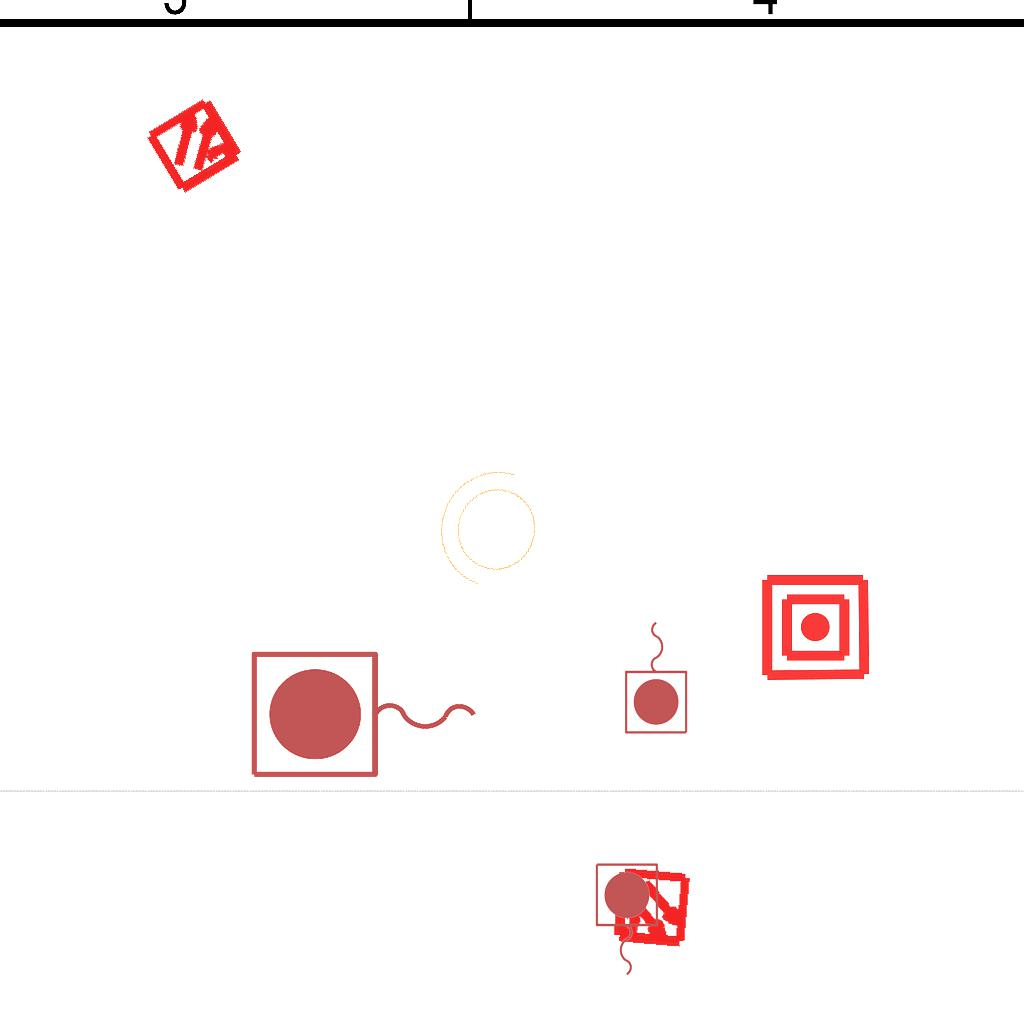NAM-Nichtautomatischer_Melder: (759, 571, 872, 684)
OT_Multisensormelder_(Kombination_RMO_WMD): (118, 66, 275, 223), (590, 848, 713, 971)
Scheinwerfer_fuer_Alarmbeleuchtung: (417, 450, 565, 612)
Zugtaster: (243, 644, 487, 788), (621, 616, 693, 738), (590, 859, 662, 981)
